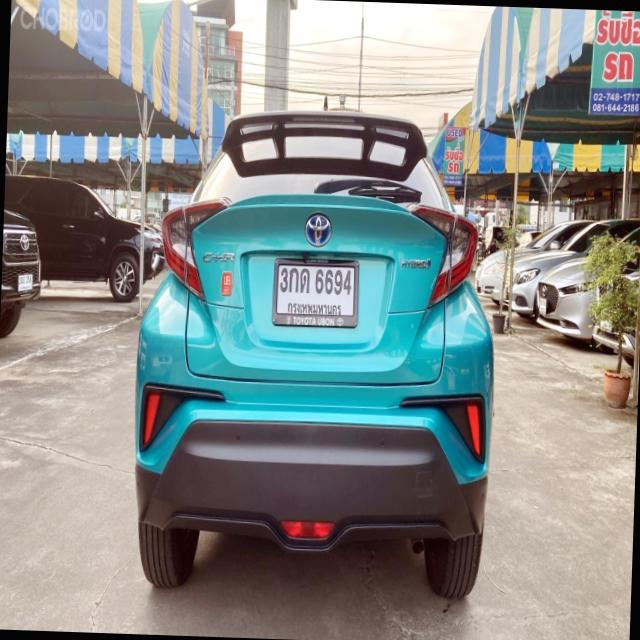license_plate: (270, 250, 362, 330), (16, 270, 34, 296), (538, 293, 547, 318)
